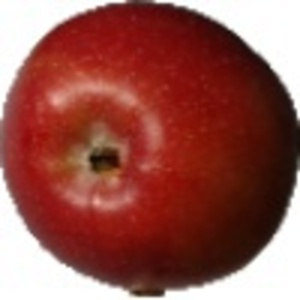maçã braeburn: (3, 3, 298, 291)
